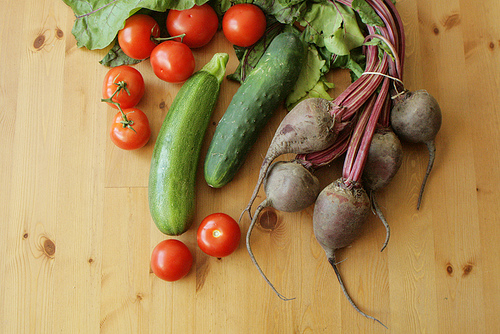cucumber: (205, 41, 314, 190), (152, 70, 218, 236)
